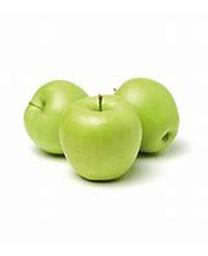apple: (58, 93, 142, 180), (113, 76, 180, 155), (23, 79, 87, 155)
